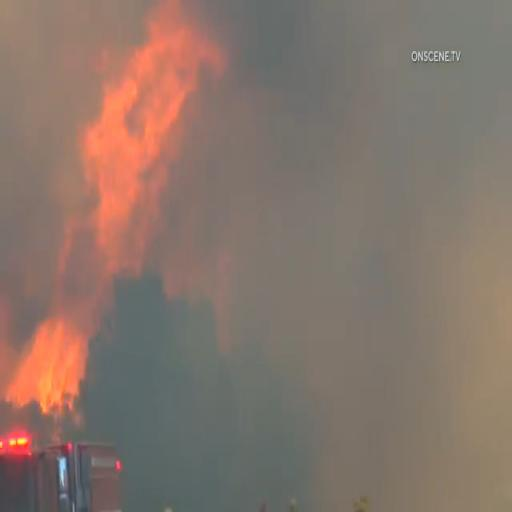fire: (23, 302, 91, 401)
